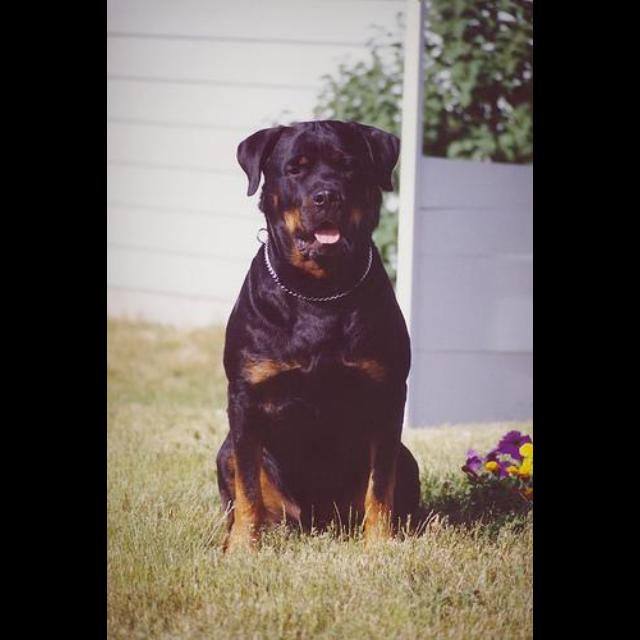rottweiler: (216, 120, 423, 557)
